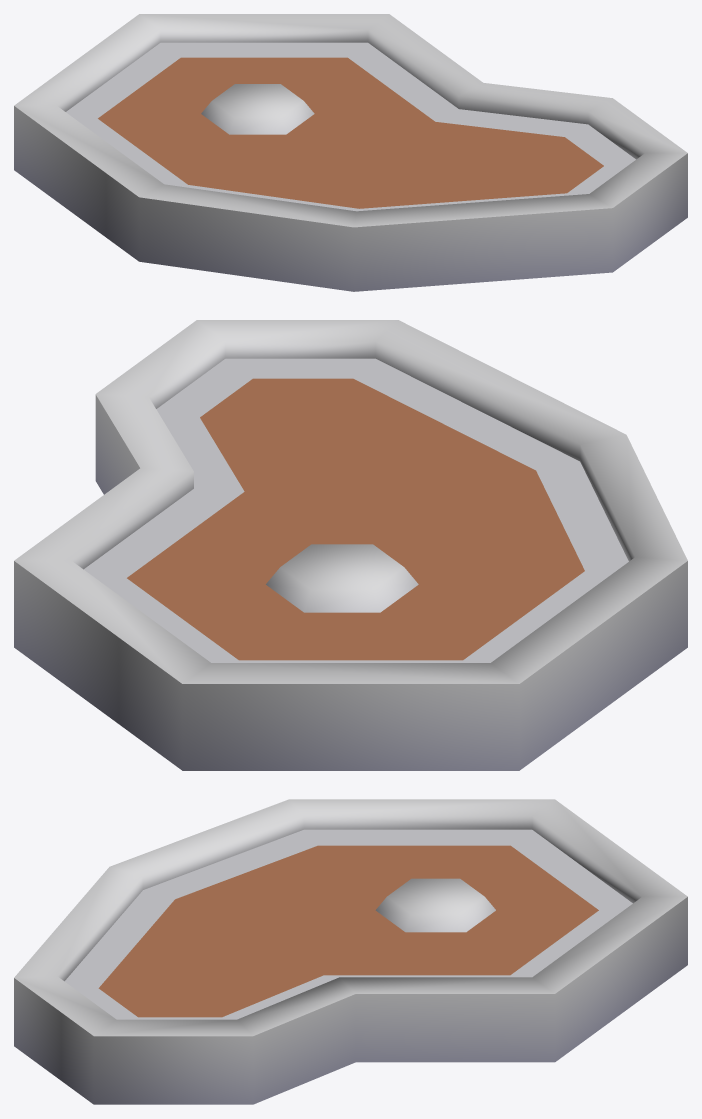
File: KF_meat-raw.glb
3 views of the same model, one above another, from view 1: azimuth 30°, elevation 25°; view 2: azimuth 150°, elevation 25°; view 3: azimuth 270°, elevation 25° (orthographic). The views are drawn at different scales.
Visible parts, largest first — view 1: meat-raw; view 2: meat-raw; view 3: meat-raw.
Boxes of the visible parts, bbox=[...] form: meat-raw: bbox=[14, 14, 687, 291]; meat-raw: bbox=[14, 320, 687, 770]; meat-raw: bbox=[14, 799, 687, 1104].
Size of the model in its own units: 0.4785 by 0.0645 by 0.5754.
